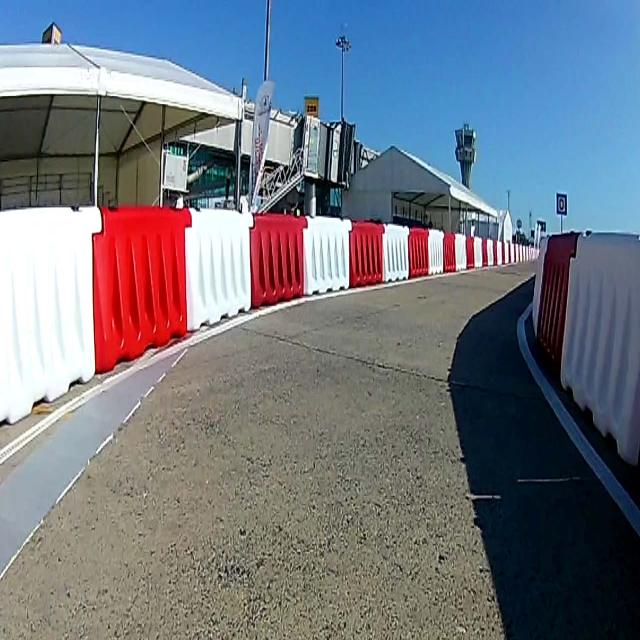durak: (557, 192, 568, 214)
